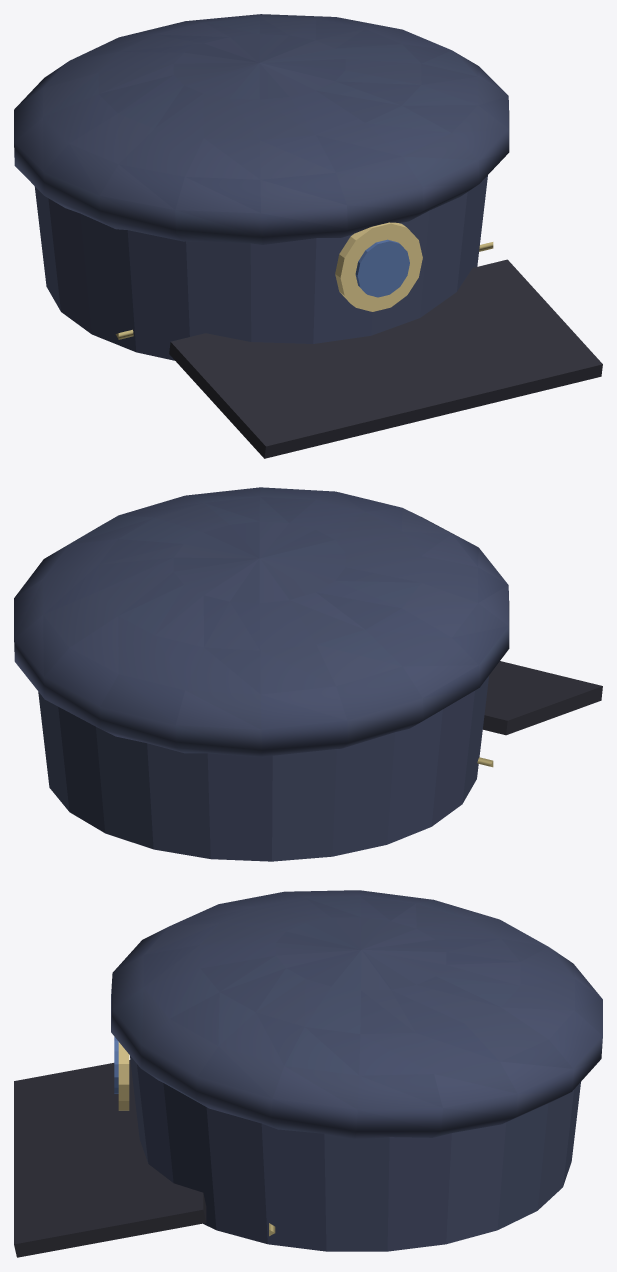
The model's file is rennick_hat_a.glb.
3 renders of one model, top to bottom at view 1: azimuth 30°, elevation 25°; view 2: azimuth 150°, elevation 25°; view 3: azimuth 270°, elevation 25°, orthographic.
Parts seen in each view (by area): view 1: body; view 2: body; view 3: body.
Boxes of the visible parts, x1,y1,x2,y2 form: body: (14,14,602,458); body: (14,487,602,861); body: (14,890,602,1257).
Bounding box in the file's own units: 0.2324 × 0.1166 × 0.2744.
